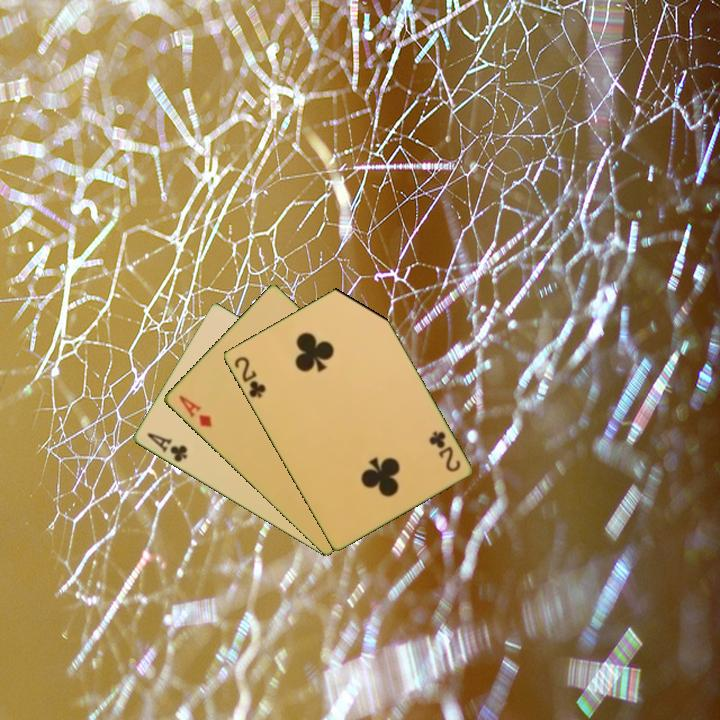2c: (230, 353, 268, 401), (425, 427, 463, 475)
Ac: (143, 429, 190, 465)
Ad: (174, 391, 215, 430)
